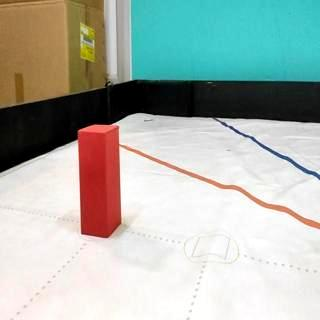redbox: (76, 122, 122, 238)
